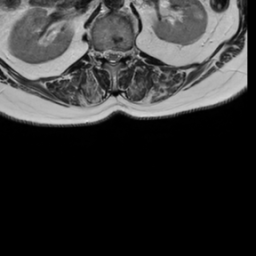CCS_stenosis: (108, 44, 117, 69)
LFS_normal: (123, 45, 130, 62)
LLS_normal: (117, 43, 123, 63)
RFS_normal: (96, 45, 103, 63)
RLS_normal: (103, 44, 109, 65)
